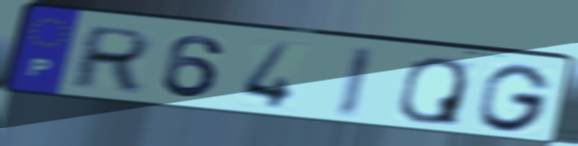4: (238, 39, 301, 112)
6: (162, 34, 225, 101)
G: (475, 62, 555, 134)
I: (333, 44, 378, 121)
Q: (395, 55, 471, 128)
R: (66, 24, 156, 93)
